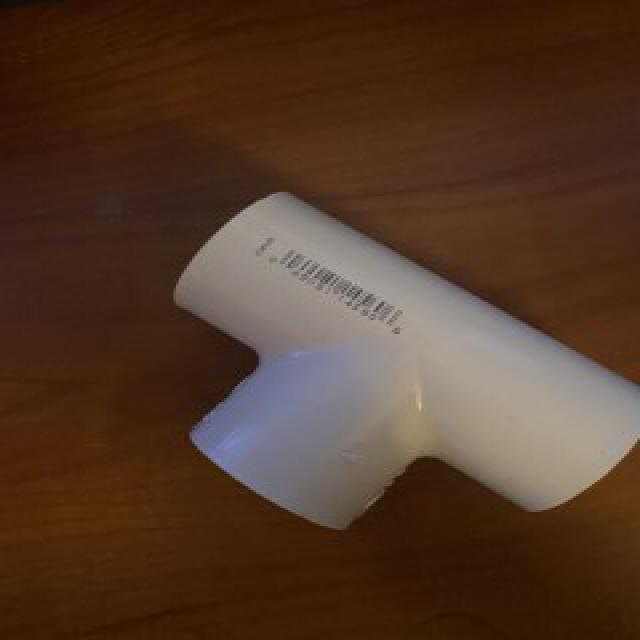T Joint: (170, 191, 640, 534)
